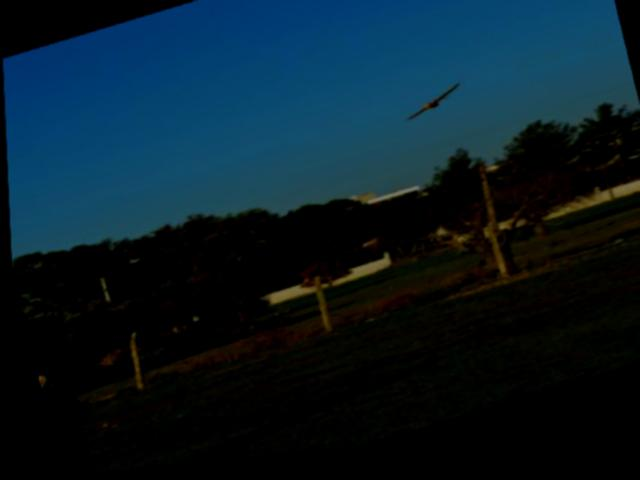iha: (395, 82, 468, 137)
